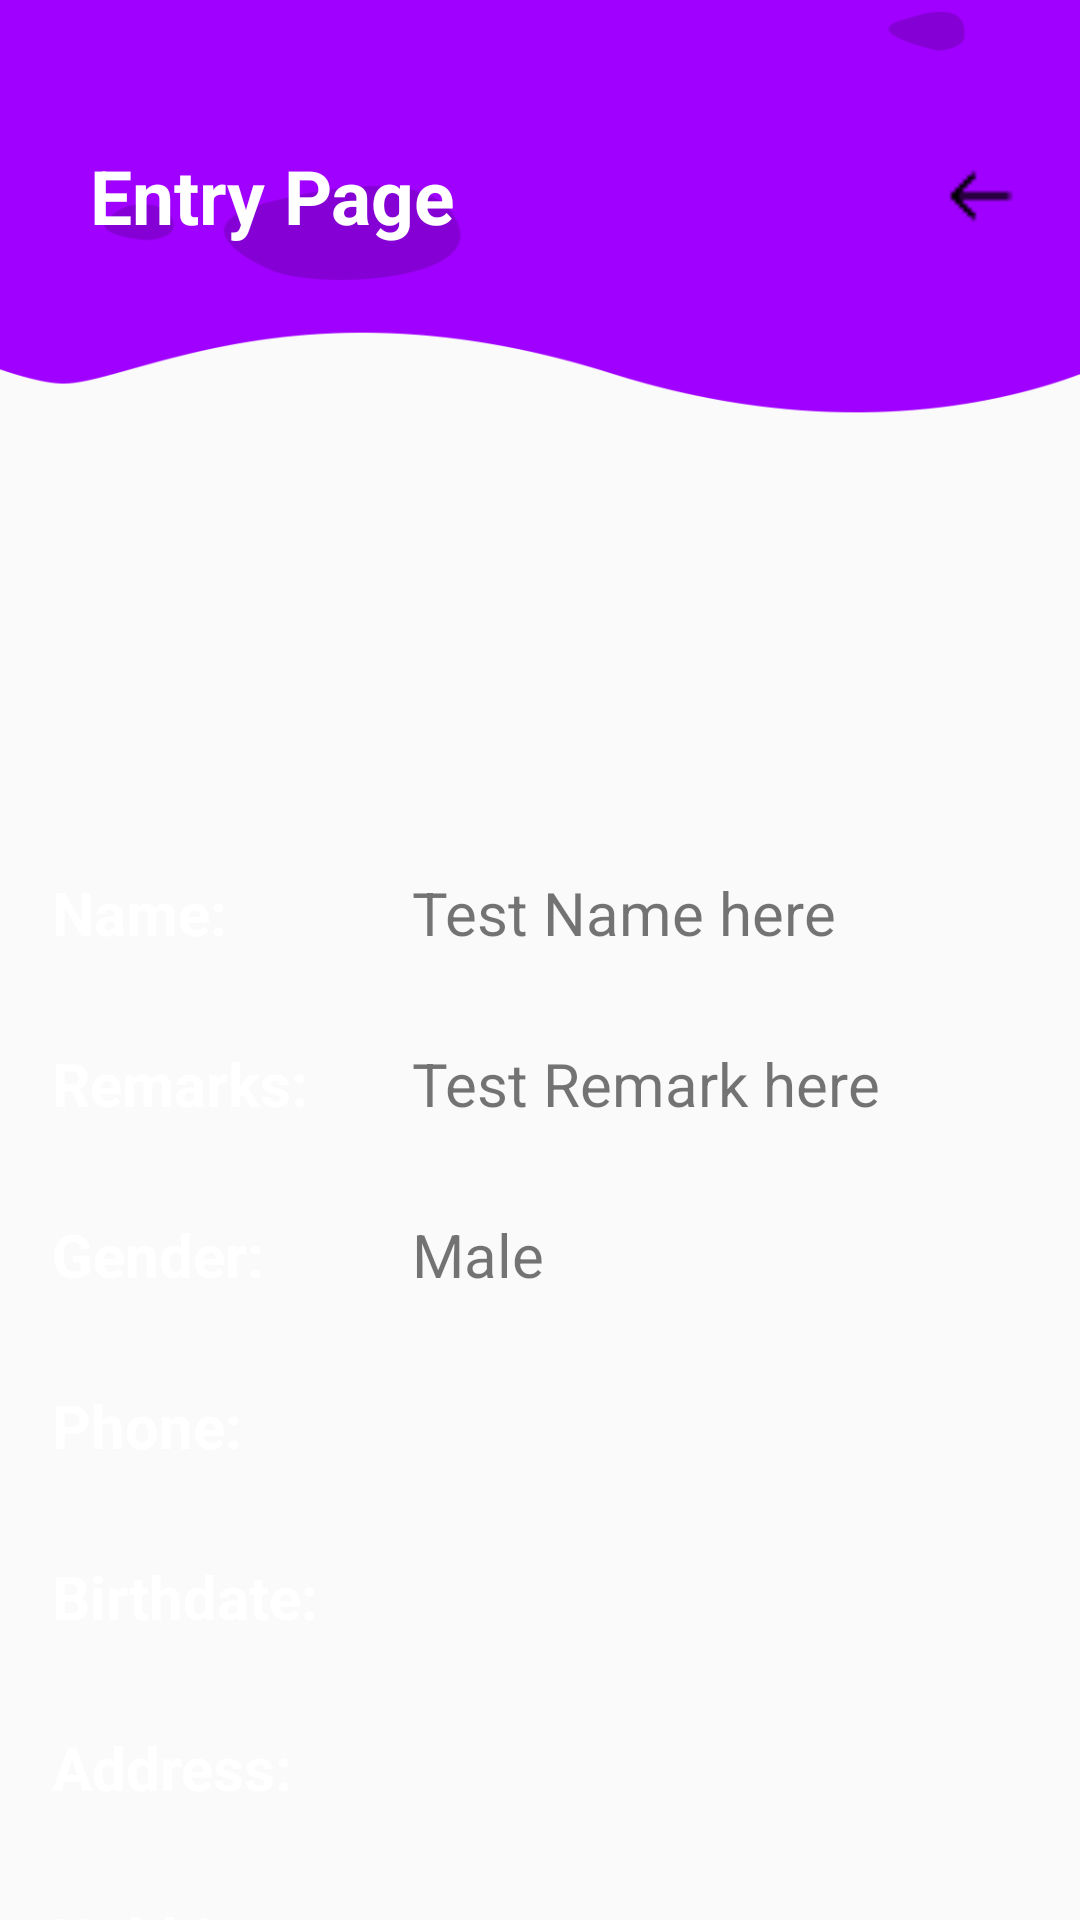

Icons on this 1080 × 1920 Android screen, each with the point to tap as [x,y]:
backicon: [981,196]
